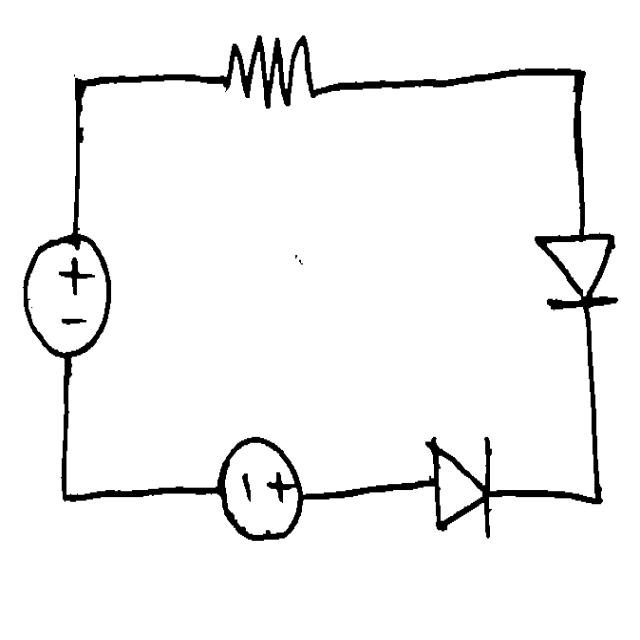dc: (17, 224, 120, 365), (216, 423, 307, 546)
diode: (410, 423, 510, 547), (522, 211, 629, 324)
resistor: (202, 24, 340, 122)
